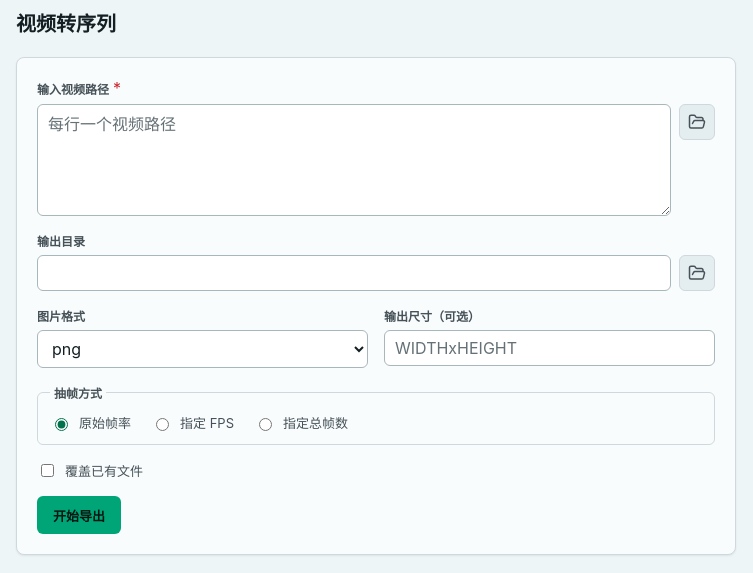
Test case: VideoFramesPage › submits only once while the create request is pending
Type "clip.webm" into the text box labelled "输入视频路径" at (354, 160), box [37,104,671,216]
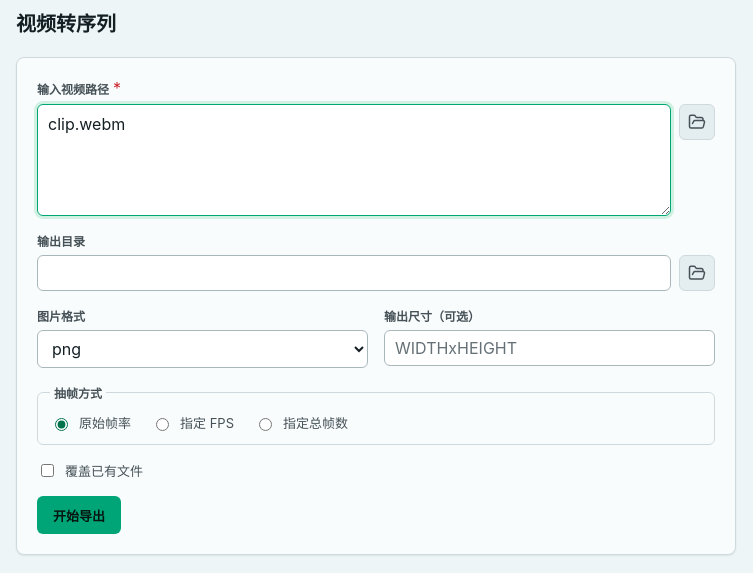
Double-click the button "开始导出" at (79, 515), box [37,496,121,534]
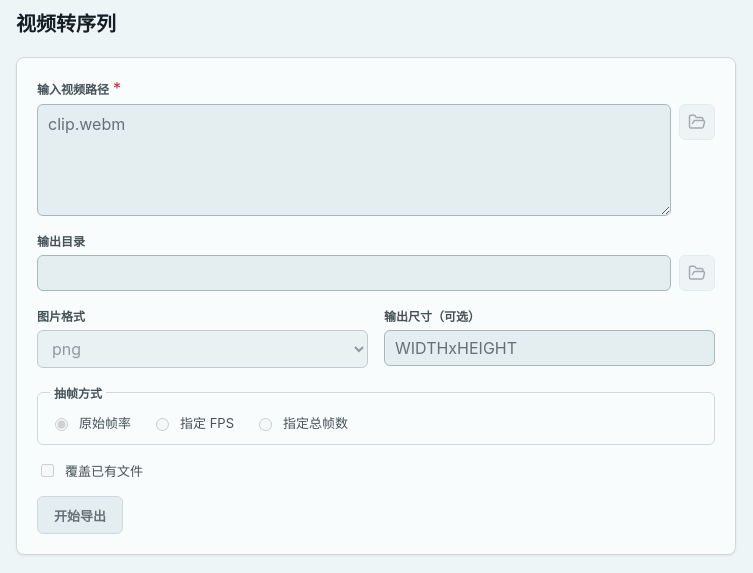
Check: the button "开始导出" is disabled, box [37,496,123,534]
